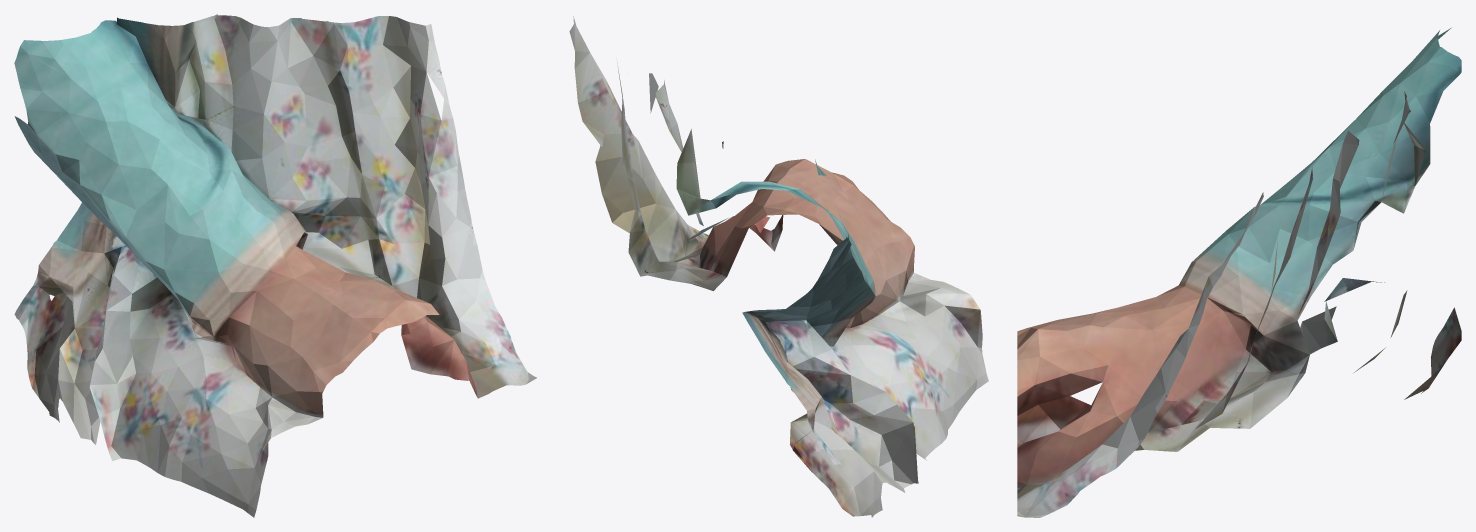
3 renders of one model, left to right at view 1: azimuth 30°, elevation 25°; view 2: azimuth 150°, elevation 25°; view 3: azimuth 270°, elevation 25°, orthographic. The views are drawn at different scales.
Size of the model in its own units: 171 by 171 by 171.
Materials: 1 (1 with a texture image).
